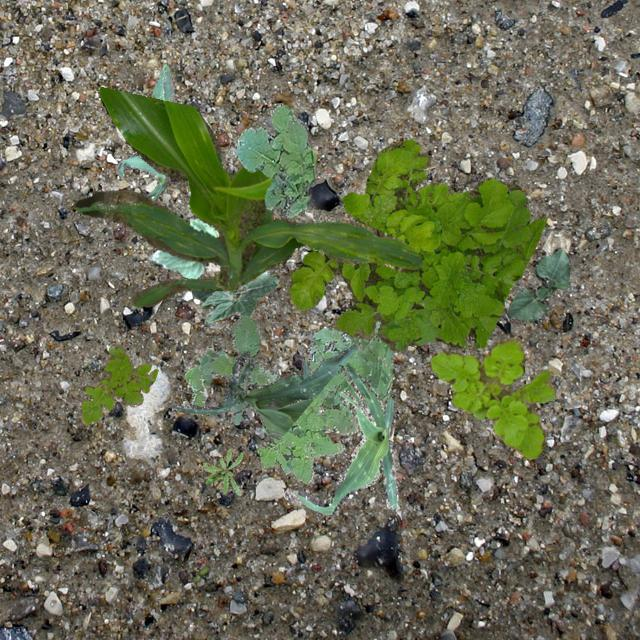crop: (71, 86, 422, 306), (170, 344, 356, 438), (282, 364, 398, 514), (115, 62, 173, 200), (148, 214, 268, 278), (506, 247, 570, 321), (190, 272, 278, 322)
weed: (288, 138, 544, 350), (256, 320, 392, 482), (428, 337, 554, 458), (184, 314, 268, 424), (236, 102, 314, 216), (80, 346, 156, 424), (200, 448, 248, 494)
